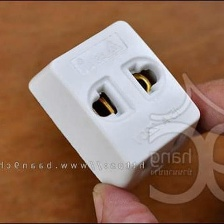three_eye_plug: (24, 14, 205, 195)
